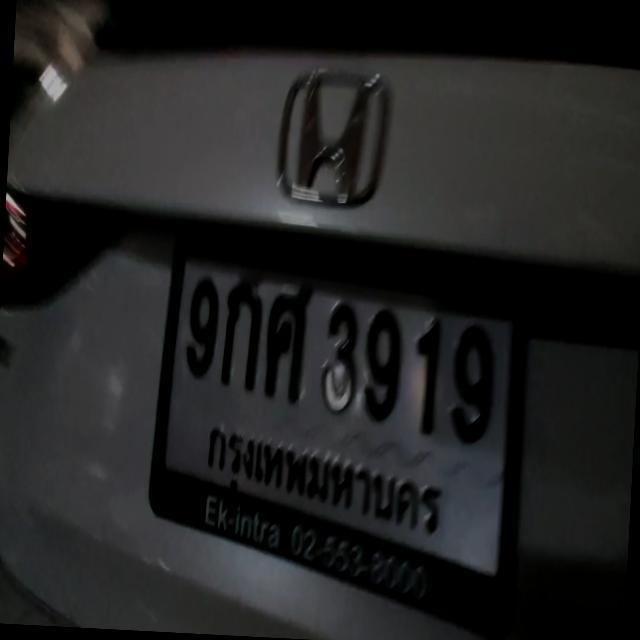license_plate: (163, 246, 516, 577)
